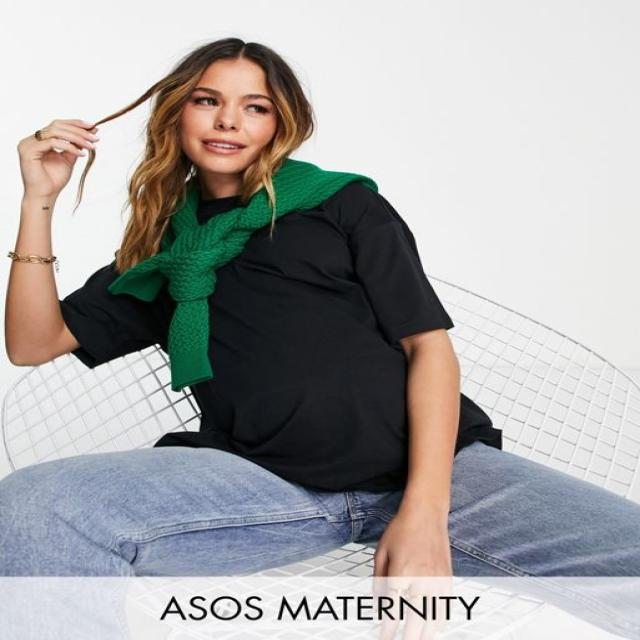tshirt: (60, 162, 498, 493)
